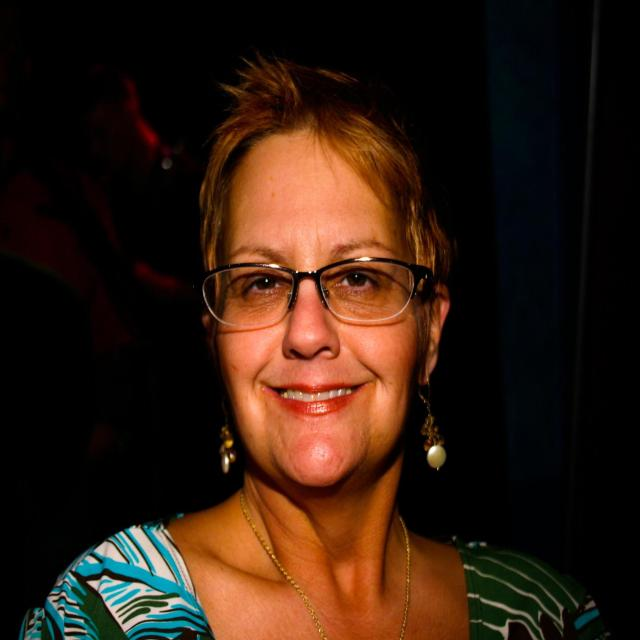Eyebags: (246, 290, 286, 316), (334, 286, 378, 308)
